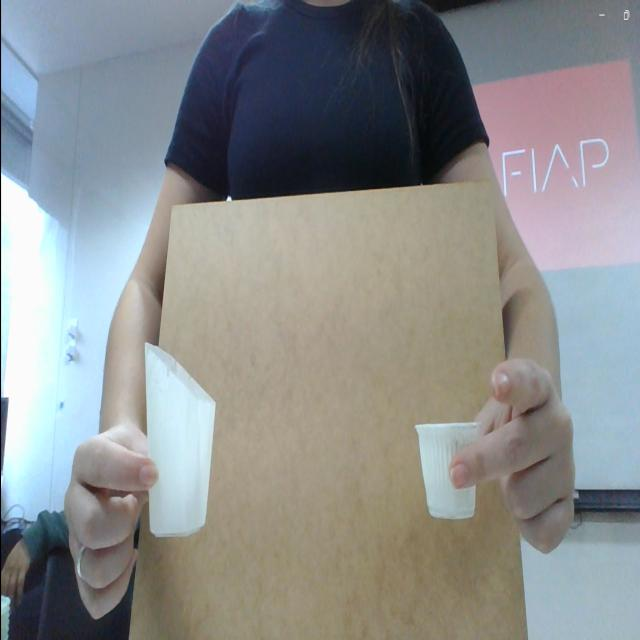erva_daninha: (145, 342, 217, 539)
planta: (415, 422, 480, 520)
